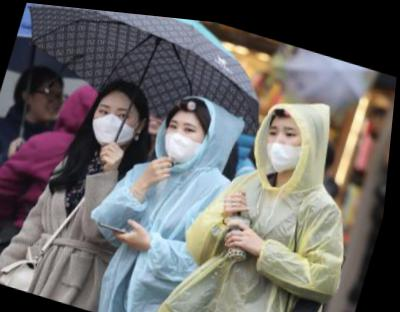NONE: (33, 81, 69, 123)
OK: (90, 94, 144, 150), (160, 109, 209, 166)
WRONG: (259, 108, 313, 171)
